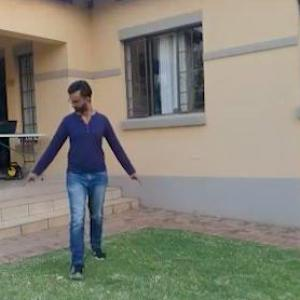land: (22, 73, 147, 278)
